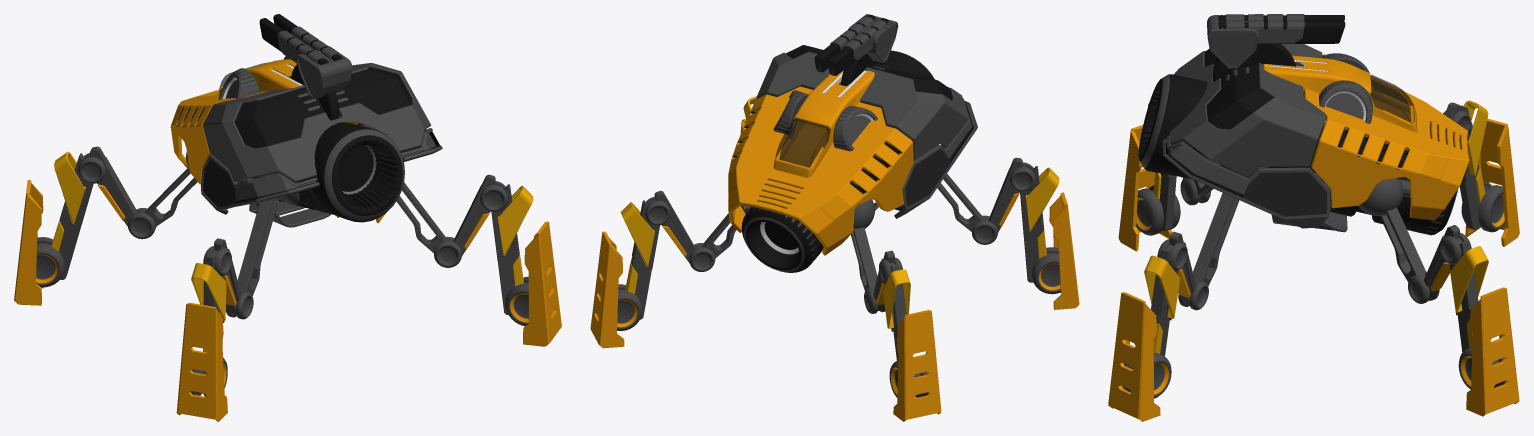
The model's file is spiderrobot2.fbx.
3 renders of one model, left to right at view 1: azimuth 30°, elevation 25°; view 2: azimuth 150°, elevation 25°; view 3: azimuth 270°, elevation 25°, orthographic. The views are drawn at different scales.
Parts seen in each view (by area): view 1: Cube.006, Plane.036, Plane.034, Cube.008, Plane.032, Plane.033, Plane.031, Sphere.005, Cylinder.071, Cylinder.072, Sphere.004, Sphere.003 (+3 smaller); view 2: Cube.006, Plane.032, Plane.030, Plane.036, Cube.008, Plane.029, Plane.035, Sphere.003, Cylinder.073, Plane.031, Cylinder.069, Sphere.005 (+3 smaller); view 3: Cube.006, Plane.030, Plane.034, Cube.008, Plane.032, Plane.036, Sphere.002, Sphere.004, Plane.029, Plane.033, Plane.031, Cylinder.069 (+5 smaller).
Boxes of the visible parts, x1,y1,x2,y2 form: Cube.006: [170, 56, 442, 227]; Plane.036: [176, 302, 227, 421]; Plane.034: [505, 221, 561, 346]; Cube.008: [259, 14, 352, 99]; Plane.032: [14, 180, 64, 305]; Plane.033: [491, 184, 533, 314]; Plane.031: [51, 151, 93, 279]; Sphere.005: [226, 174, 283, 319]; Cylinder.071: [78, 146, 136, 226]; Cylinder.072: [453, 174, 507, 255]; Sphere.004: [361, 125, 461, 267]; Sphere.003: [127, 151, 211, 239]; Cube.006: [728, 45, 977, 272]; Plane.032: [889, 310, 941, 421]; Plane.030: [590, 231, 642, 348]; Plane.036: [1031, 192, 1079, 309]; Cube.008: [814, 14, 898, 75]; Plane.029: [620, 200, 659, 319]; Plane.035: [1020, 166, 1059, 282]; Sphere.003: [851, 199, 885, 313]; Cylinder.073: [988, 157, 1035, 232]; Plane.031: [883, 264, 910, 360]; Cylinder.069: [645, 190, 695, 262]; Sphere.005: [897, 129, 997, 244]; Cube.006: [1138, 44, 1469, 235]; Plane.030: [1458, 287, 1519, 416]; Plane.034: [1108, 292, 1171, 421]; Cube.008: [1207, 14, 1345, 68]; Plane.032: [1461, 119, 1519, 246]; Plane.036: [1118, 125, 1180, 251]; Sphere.002: [1358, 178, 1439, 303]; Sphere.004: [1178, 164, 1268, 310]; Plane.029: [1450, 240, 1488, 352]; Plane.033: [1144, 248, 1180, 356]; Plane.031: [1459, 100, 1488, 230]; Cylinder.069: [1423, 225, 1471, 299].
Size of the model in its own units: 591 by 429 by 521.
